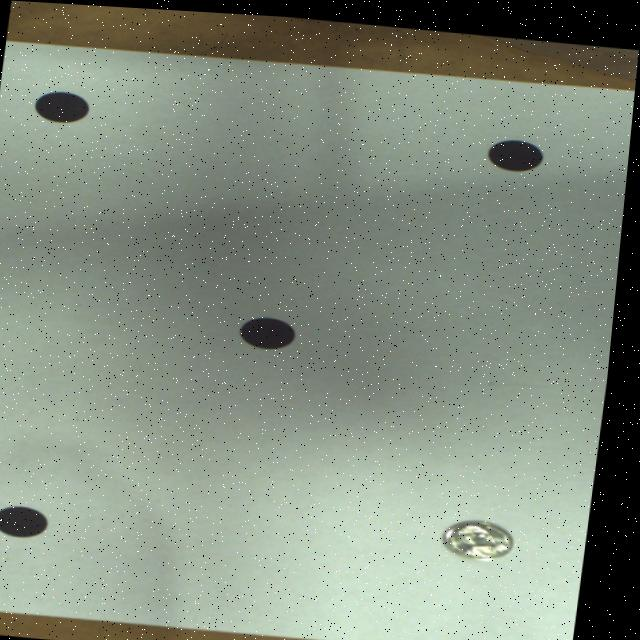head1bath: (454, 513, 522, 553)
space: (247, 312, 302, 344), (489, 132, 545, 163), (3, 504, 58, 535), (37, 90, 90, 121)
